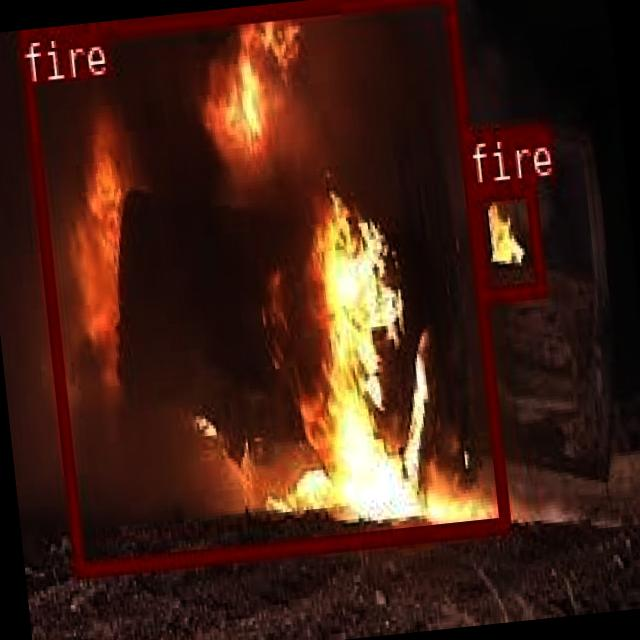fire: (16, 0, 509, 576), (466, 176, 544, 298)
